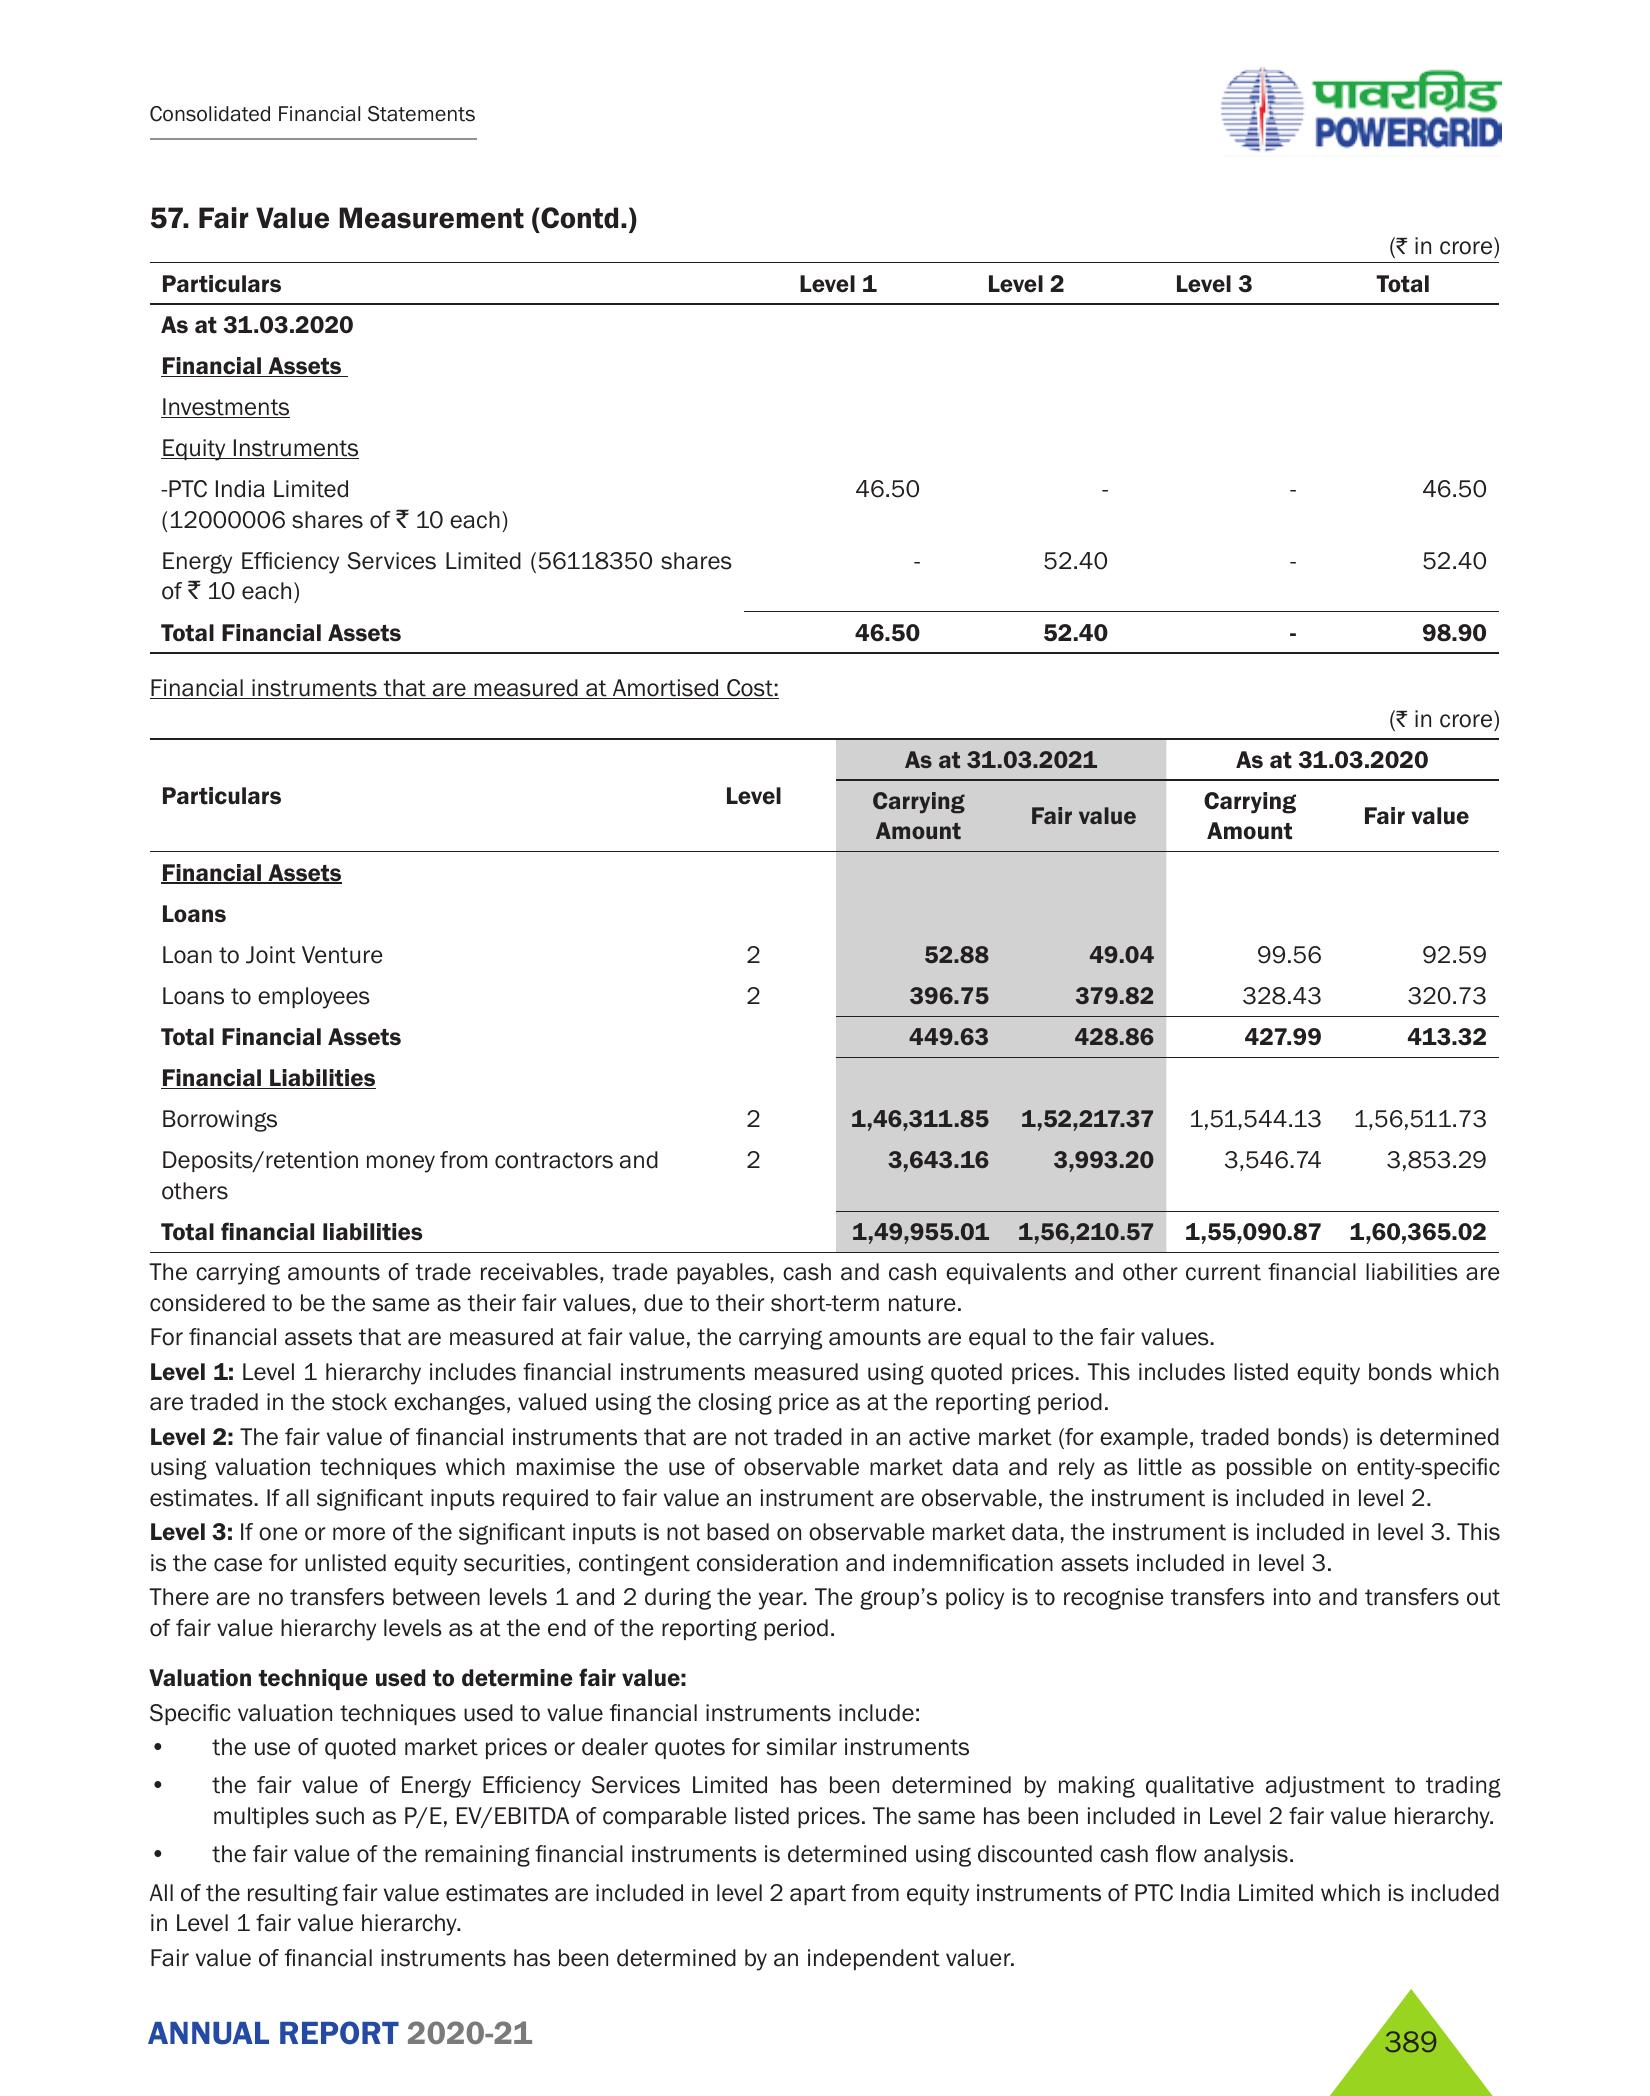Footer: (0, 1965, 1650, 2096)
Header: (0, 0, 1650, 168)
Table: (134, 735, 1533, 1245), (143, 260, 1536, 653)
